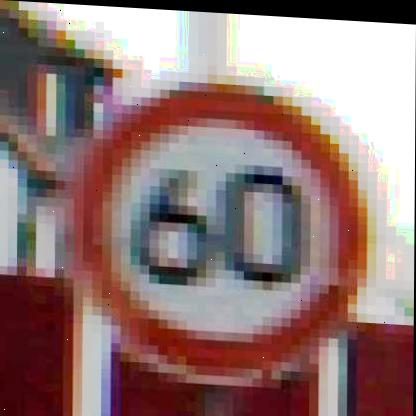Speed Limit -60-: (57, 68, 372, 388)
